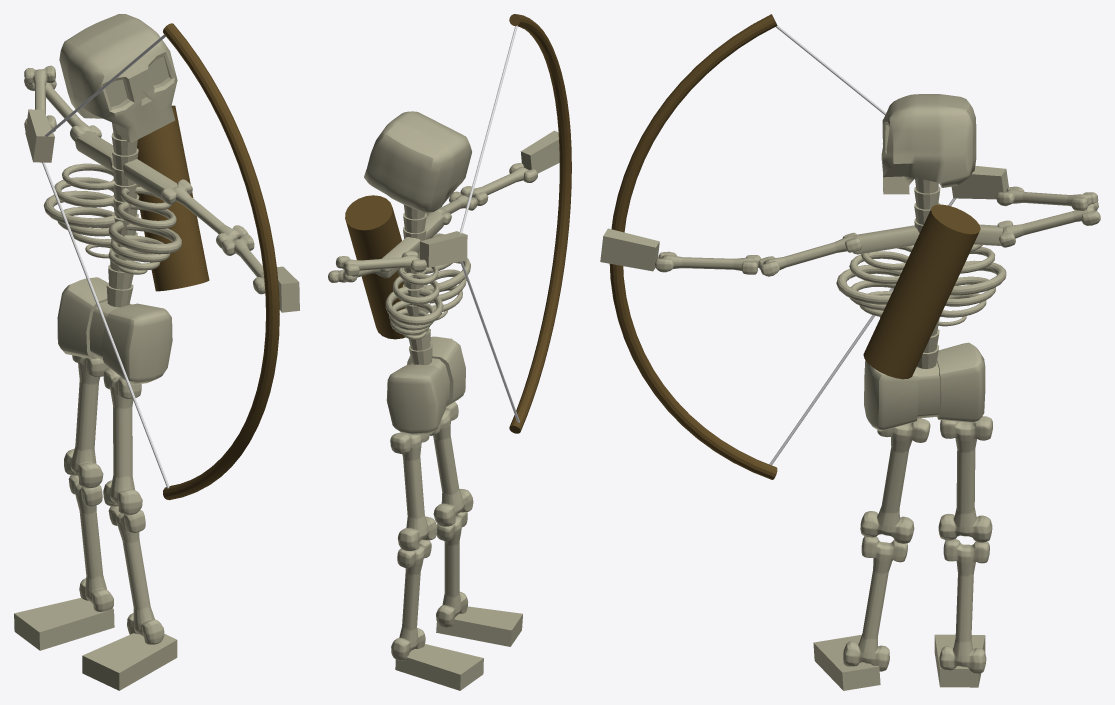
File: ForwardSkelle.fbx
3 renders of one model, left to right at view 1: azimuth 30°, elevation 25°; view 2: azimuth 150°, elevation 25°; view 3: azimuth 270°, elevation 25°, orthographic. The views are drawn at different scales.
Parts seen in each view (by area): view 1: Bones, Bow, Quiver, Bowstring, BowString; view 2: Bones, Bow, Quiver, BowString, Bowstring; view 3: Bones, Quiver, Bow.
Boxes of the visible parts, box(x1,y1,x2,y2) form: Bones: box(14, 14, 299, 690); Bow: box(163, 23, 279, 500); Quiver: box(137, 105, 209, 291); Bowstring: box(42, 162, 169, 488); BowString: box(45, 34, 165, 136); Bones: box(328, 111, 559, 690); Bow: box(509, 14, 571, 433); Quiver: box(345, 195, 406, 339); BowString: box(459, 25, 517, 233); Bowstring: box(460, 261, 519, 422); Bones: box(600, 94, 1100, 690); Quiver: box(863, 204, 980, 379); Bow: box(609, 14, 777, 479).
Bounding box in the file's own units: 1.86 × 8.38 × 5.76.
